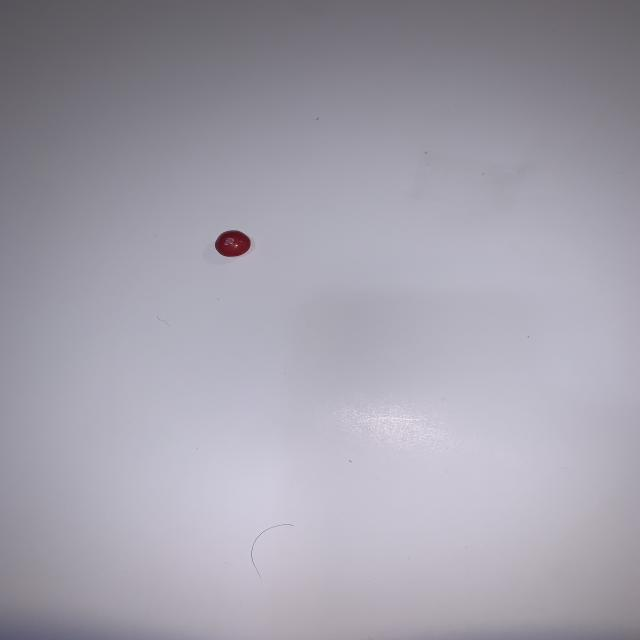smartie: (214, 230, 250, 257)
